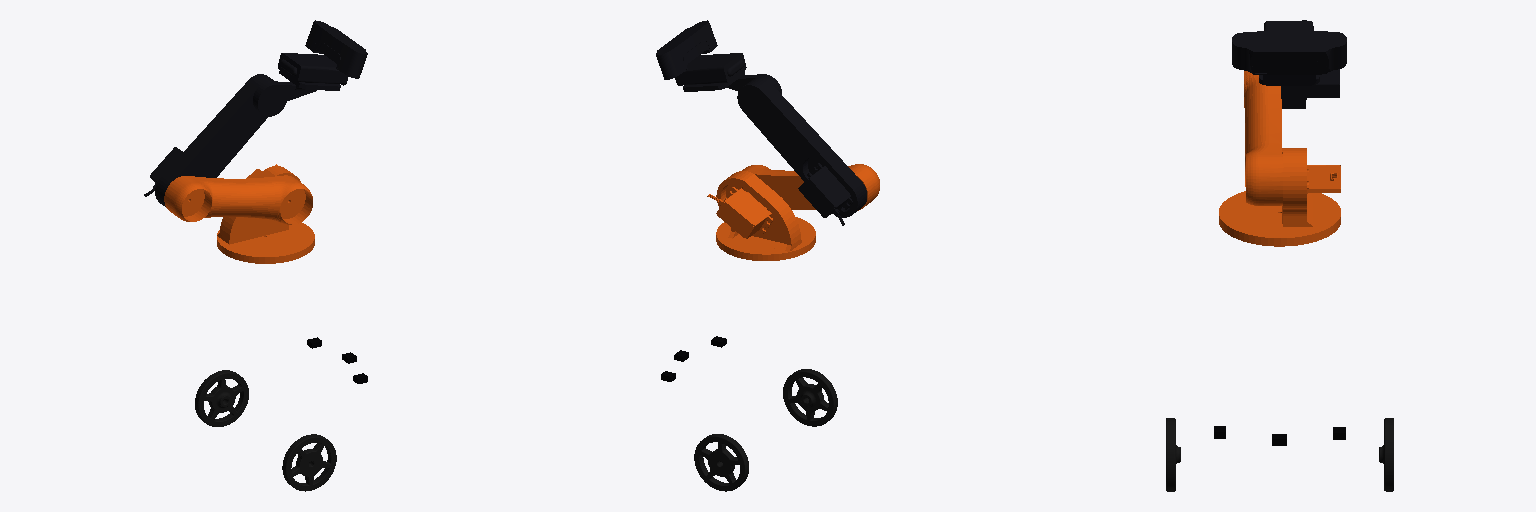
The robot description file, URDF, robot "assemblyscout":
<?xml version="1.0"?>
<robot name="assemblyscout">
  <!-- X hacia el frente, Y hacia la izquierda y Z hacia arriba. -->

  <!--
    Las mallas del chasis usan el marco del ensamble principal de CAD.
    Las tres mallas del brazo usan el marco del subensamble del brazo.
    Se conservan sus vértices originales y se transforman desde URDF.
  -->
  <link name="base_link">
    <inertial>
      <!-- Propiedades del chasis actualizado, transformadas de CAD a ROS. -->
      <origin xyz="-0.0050200 -0.0001100 0.0738800" rpy="0 0 0" />
      <mass value="2.9850300" />
      <inertia
        ixx="0.0200321246" ixy="0.0000278202" ixz="-0.0015139529"
        iyy="0.0203140360" iyz="-0.0000953432"
        izz="0.0092648964" />
    </inertial>

    <visual>
      <!-- CAD principal: X lateral, Y vertical y Z longitudinal. -->
      <origin xyz="0 0 0" rpy="1.57079632679 0 -1.57079632679" />
      <geometry>
        <mesh filename="package://robot_description/meshes/chasis.STL"
              scale="0.001 0.001 0.001" />
      </geometry>
      <material name="chassis_gray">
        <color rgba="0.65 0.65 0.68 1" />
      </material>
    </visual>

    <!-- Colisiones de la simulación móvil que ya eran estables. -->
    <collision name="body_collision">
      <origin xyz="0 0 0.080" rpy="0 0 0" />
      <geometry><box size="0.180 0.160 0.120" /></geometry>
    </collision>
    <!-- Los apoyos ya forman parte de la masa del chasis. -->
    <collision name="front_support_collision">
      <origin xyz="0.080 0 -0.0055625" rpy="0 0 0" />
      <geometry><sphere radius="0.0079375" /></geometry>
    </collision>
    <collision name="rear_support_collision">
      <origin xyz="-0.080 0 -0.0055625" rpy="0 0 0" />
      <geometry><sphere radius="0.0079375" /></geometry>
    </collision>
  </link>

  <!-- La C920 ya está representada dentro de la malla CAD del chasis. Este
       enlace sólo coloca su sensor virtual, sin una segunda carcasa delante. -->
  <link name="base_camera_link" />
  <joint name="base_camera_mount_joint" type="fixed">
    <parent link="base_link" />
    <child link="base_camera_link" />
    <!-- Centro óptico sobre la C920 modelada en el chasis, detrás del borde
         frontal que tapaba la vista anterior. -->
    <origin xyz="0.035 0 0.115" rpy="0 0 0" />
  </joint>
  <gazebo reference="base_camera_link">
    <sensor name="base_camera" type="camera">
      <always_on>true</always_on><visualize>true</visualize><update_rate>10</update_rate>
      <topic>/assemblyscout/base/camera/image</topic>
      <camera>
        <horizontal_fov>1.0471975512</horizontal_fov>
        <image><width>1280</width><height>720</height><format>R8G8B8</format></image>
        <clip><near>0.05</near><far>5.0</far></clip>
      </camera>
    </sensor>
  </gazebo>

  <link name="wheel_left_link">
    <inertial>
      <origin xyz="0.0000001 -0.0001772 0.0000031" rpy="0 0 0" />
      <mass value="0.0193581" />
      <inertia ixx="0.0000046755" ixy="0" ixz="0"
               iyy="0.0000091143" iyz="0" izz="0.0000046754" />
    </inertial>
    <visual>
      <origin xyz="0 0 0" rpy="3.14159265359 0 0" />
      <geometry>
        <mesh filename="package://robot_description/meshes/rueda_izquierda.STL"
              scale="0.001 0.001 0.001" />
      </geometry>
      <material name="wheel_dark"><color rgba="0.12 0.12 0.12 1" /></material>
    </visual>
    <collision>
      <origin xyz="0 0 0" rpy="1.57079632679 0 0" />
      <geometry><cylinder radius="0.030" length="0.006" /></geometry>
    </collision>
  </link>

  <joint name="wheel_left_joint" type="continuous">
    <parent link="base_link" /><child link="wheel_left_link" />
    <origin xyz="0 0.0890475 0.0165" rpy="0 0 0" />
    <axis xyz="0 1 0" />
    <limit effort="5.0" velocity="30.0" />
    <dynamics damping="0.05" friction="0.01" />
  </joint>

  <link name="wheel_right_link">
    <inertial>
      <origin xyz="0 0.0001772 0.0000031" rpy="0 0 0" />
      <mass value="0.0193581" />
      <inertia ixx="0.0000046755" ixy="0" ixz="0"
               iyy="0.0000091143" iyz="0" izz="0.0000046754" />
    </inertial>
    <visual>
      <origin xyz="0 0 0" rpy="0 0 0" />
      <geometry>
        <mesh filename="package://robot_description/meshes/rueda_derecha.STL"
              scale="0.001 0.001 0.001" />
      </geometry>
      <material name="wheel_dark" />
    </visual>
    <collision>
      <origin xyz="0 0 0" rpy="1.57079632679 0 0" />
      <geometry><cylinder radius="0.030" length="0.006" /></geometry>
    </collision>
  </link>

  <joint name="wheel_right_joint" type="continuous">
    <parent link="base_link" /><child link="wheel_right_link" />
    <origin xyz="0 -0.0890475 0.0165" rpy="0 0 0" />
    <axis xyz="0 1 0" />
    <limit effort="5.0" velocity="30.0" />
    <dynamics damping="0.05" friction="0.01" />
  </joint>

  <!-- Brazo dinámico: las masas e inercias conciliadas preservan la masa total
       del ensamble CAD hasta disponer de una descomposición definitiva. -->
  <link name="turret_link">
    <inertial>
      <origin xyz="0.0028664 0.0090140 0.0150813" rpy="0 0 0" />
      <mass value="0.16680893" />
      <inertia ixx="0.0001462859" ixy="-0.0000056788" ixz="-0.0000188260"
               iyy="0.0001576064" iyz="-0.0000262382" izz="0.0001609491" />
    </inertial>
    <visual>
      <!-- Marco de EnsambleBrazo a ROS, con origen en el eje de la torreta. -->
      <origin xyz="0 0 -0.0725000" rpy="1.57079632679 0 1.57079632679" />
      <geometry>
        <mesh filename="package://robot_description/meshes/torreta_brazo.STL"
              scale="0.001 0.001 0.001" />
      </geometry>
      <material name="arm_orange"><color rgba="0.85 0.38 0.10 1" /></material>
    </visual>
    <collision name="turret_collision">
      <origin xyz="0 0 0.0285" rpy="0 0 0" />
      <geometry><box size="0.100 0.100 0.075" /></geometry>
    </collision>
  </link>

  <joint name="turret_joint" type="revolute">
    <parent link="base_link" /><child link="turret_link" />
    <!-- Centro CAD (0, 234.5, 0) mm, llevado a ROS. -->
    <origin xyz="0 0 0.2345000" rpy="0 0 0" />
    <axis xyz="0 0 1" />
    <limit lower="-3.14159265359" upper="3.14159265359" effort="5.0" velocity="1.5" />
    <dynamics damping="0.5" friction="0.05" />
  </joint>

  <link name="upper_arm_link">
    <inertial>
      <origin xyz="-0.0576414 0.0025373 0.0143291" rpy="0 0 0" />
      <mass value="0.17608337" />
      <inertia ixx="0.0000496191" ixy="-0.0000040335" ixz="0.0000727948"
               iyy="0.0003532089" iyz="0.0000009735" izz="0.0003241583" />
    </inertial>
    <visual>
      <origin xyz="-0.0201424 0.0129816 -0.1125000"
              rpy="1.57079632679 0 1.57079632679" />
      <geometry>
        <mesh filename="package://robot_description/meshes/brazo.STL"
              scale="0.001 0.001 0.001" />
      </geometry>
      <material name="arm_orange" />
    </visual>
    <collision name="upper_arm_collision">
      <origin xyz="-0.0585 -0.0006 0.0139" rpy="0 0 0" />
      <geometry><box size="0.162 0.032 0.073" /></geometry>
    </collision>
  </link>

  <joint name="shoulder_joint" type="revolute">
    <parent link="turret_link" /><child link="upper_arm_link" />
    <!-- Centro del hombro medido en CAD y expresado desde la torreta. -->
    <origin xyz="0.0201424 -0.0129816 0.0400000" rpy="0 0 0" />
    <axis xyz="0 -1 0" />
    <limit lower="-3.14159265359" upper="3.14159265359" effort="5.0" velocity="1.5" />
    <dynamics damping="0.5" friction="0.05" />
  </joint>

  <link name="forearm_camera_link">
    <inertial>
      <origin xyz="0.1202176 0.0242732 0.1313684" rpy="0 0 0" />
      <mass value="0.38585149" />
      <inertia ixx="0.0007783379" ixy="0.0000957668" ixz="-0.0010346485"
               iyy="0.0024806109" iyz="0.0000599918" izz="0.0019526617" />
    </inertial>
    <visual>
      <!-- Incluye el soporte y la representación visual de la cámara Yuju. -->
      <origin xyz="0.0992800 0.0142800 -0.0901700"
              rpy="1.57079632679 0 1.57079632679" />
      <geometry>
        <mesh filename="package://robot_description/meshes/antebrazo_camara.STL"
              scale="0.001 0.001 0.001" />
      </geometry>
      <material name="camera_black"><color rgba="0.10 0.10 0.12 1" /></material>
    </visual>
    <collision name="forearm_collision">
      <origin xyz="0.0931 0.0220 0.1082" rpy="0 0 0" />
      <geometry><box size="0.224 0.095 0.153" /></geometry>
    </collision>
  </link>

  <joint name="elbow_joint" type="revolute">
    <parent link="upper_arm_link" /><child link="forearm_camera_link" />
    <!-- Eje aproximado con CAD; se refinará con la medición del segundo centro. -->
    <origin xyz="-0.1194224 -0.0012984 -0.0223300" rpy="0 0 0" />
    <axis xyz="0 -1 0" />
    <limit lower="-3.14159265359" upper="3.14159265359" effort="5.0" velocity="1.5" />
    <dynamics damping="0.5" friction="0.05" />
  </joint>

  <!-- Cámara virtual montada sobre el mismo conjunto visual de la Yuju.
       Su posición óptica se ajustará en simulación antes de usarla para
       inspección automática. -->
  <link name="inspection_camera_optical_link" />
  <joint name="inspection_camera_mount_joint" type="fixed">
    <parent link="forearm_camera_link" />
    <child link="inspection_camera_optical_link" />
    <origin xyz="0.1202176 0.0242732 0.1313684" rpy="0 0 0" />
  </joint>
  <gazebo reference="inspection_camera_optical_link">
    <sensor name="inspection_camera" type="camera">
      <always_on>true</always_on><visualize>true</visualize><update_rate>10</update_rate>
      <topic>/assemblyscout/arm/camera/image</topic>
      <camera>
        <horizontal_fov>1.0471975512</horizontal_fov>
        <image><width>1280</width><height>720</height><format>R8G8B8</format></image>
        <clip><near>0.05</near><far>2.0</far></clip>
      </camera>
    </sensor>
  </gazebo>


  <!-- VL53L1X central: centro CAD (0.55, 75.50, -98.20) mm convertido
       al marco ROS: (0.09820, -0.00055, 0.07550) m. Es un gpu_lidar de
       corto alcance que representa la distancia; no modela el firmware real. -->
  <link name="range_front_link">
    <visual><geometry><box size="0.010 0.012 0.006" /></geometry>
      <material name="sensor_black"><color rgba="0.04 0.04 0.05 1" /></material></visual>
  </link>
  <joint name="range_front_joint" type="fixed">
    <parent link="base_link" /><child link="range_front_link" />
    <origin xyz="0.09820 -0.00055 0.07550" rpy="0 0 0" />
  </joint>

  <gazebo reference="range_front_link">
    <sensor name="range_front" type="gpu_lidar">
      <always_on>true</always_on><visualize>true</visualize><update_rate>10</update_rate>
      <topic>/assemblyscout/range/front/scan</topic><gz_frame_id>range_front_link</gz_frame_id>
      <lidar><scan><horizontal><samples>9</samples><resolution>1</resolution>
        <min_angle>-0.23562</min_angle><max_angle>0.23562</max_angle></horizontal>
        <vertical><samples>1</samples><resolution>1</resolution><min_angle>0</min_angle><max_angle>0</max_angle></vertical>
      </scan><range><min>0.04</min><max>4.0</max><resolution>0.01</resolution></range>
      <noise><type>gaussian</type><mean>0.0</mean><stddev>0.005</stddev></noise></lidar>
    </sensor>
  </gazebo>


  <!-- Los nombres izquierda/derecha siguen el punto de vista propio del robot.
       En el marco ROS, +X es frente y +Y es izquierda: los sensores laterales
       miran perpendicularmente al avance, no en diagonal hacia delante. -->
  <link name="range_right_link">
    <visual><geometry><box size="0.010 0.012 0.006" /></geometry>
      <material name="sensor_black" /></visual>
  </link>
  <joint name="range_right_joint" type="fixed">
    <parent link="base_link" /><child link="range_right_link" />
    <origin xyz="0.083110 -0.049045 0.075230" rpy="0 0 -1.57079632679" />
  </joint>
  <gazebo reference="range_right_link">
    <sensor name="range_right" type="gpu_lidar">
      <always_on>true</always_on><visualize>true</visualize><update_rate>10</update_rate>
      <topic>/assemblyscout/range/right/scan</topic><gz_frame_id>range_right_link</gz_frame_id>
      <lidar><scan><horizontal><samples>9</samples><resolution>1</resolution>
        <min_angle>-0.23562</min_angle><max_angle>0.23562</max_angle></horizontal>
        <vertical><samples>1</samples><resolution>1</resolution><min_angle>0</min_angle><max_angle>0</max_angle></vertical>
      </scan><range><min>0.04</min><max>4.0</max><resolution>0.01</resolution></range>
      <noise><type>gaussian</type><mean>0.0</mean><stddev>0.005</stddev></noise></lidar>
    </sensor>
  </gazebo>

  <link name="range_left_link">
    <visual><geometry><box size="0.010 0.012 0.006" /></geometry>
      <material name="sensor_black" /></visual>
  </link>
  <joint name="range_left_joint" type="fixed">
    <parent link="base_link" /><child link="range_left_link" />
    <origin xyz="0.085390 0.048500 0.075500" rpy="0 0 1.57079632679" />
  </joint>
  <gazebo reference="range_left_link">
    <sensor name="range_left" type="gpu_lidar">
      <always_on>true</always_on><visualize>true</visualize><update_rate>10</update_rate>
      <topic>/assemblyscout/range/left/scan</topic><gz_frame_id>range_left_link</gz_frame_id>
      <lidar><scan><horizontal><samples>9</samples><resolution>1</resolution>
        <min_angle>-0.23562</min_angle><max_angle>0.23562</max_angle></horizontal>
        <vertical><samples>1</samples><resolution>1</resolution><min_angle>0</min_angle><max_angle>0</max_angle></vertical>
      </scan><range><min>0.04</min><max>4.0</max><resolution>0.01</resolution></range>
      <noise><type>gaussian</type><mean>0.0</mean><stddev>0.005</stddev></noise></lidar>
    </sensor>
  </gazebo>

  <gazebo reference="base_link"><mu1>0.05</mu1><mu2>0.05</mu2></gazebo>
  <gazebo reference="wheel_left_link"><mu1>1.0</mu1><mu2>1.0</mu2></gazebo>
  <gazebo reference="wheel_right_link"><mu1>1.0</mu1><mu2>1.0</mu2></gazebo>

  <gazebo>
    <plugin filename="gz-sim-diff-drive-system" name="gz::sim::systems::DiffDrive">
      <left_joint>wheel_left_joint</left_joint>
      <right_joint>wheel_right_joint</right_joint>
      <wheel_separation>0.178095</wheel_separation>
      <wheel_radius>0.030</wheel_radius>
      <odom_publish_frequency>30</odom_publish_frequency>
      <!-- Tópico exclusivo del robot: evita recibir órdenes de procesos ROS
           anteriores que pudieran seguir publicando en /cmd_vel. -->
      <topic>/assemblyscout/cmd_vel</topic><odom_topic>/odom</odom_topic><tf_topic>/tf</tf_topic>
      <frame_id>odom</frame_id><child_frame_id>base_link</child_frame_id>
      <max_linear_velocity>0.60</max_linear_velocity>
      <max_angular_velocity>3.00</max_angular_velocity>
      <max_linear_acceleration>1.00</max_linear_acceleration>
      <max_angular_acceleration>4.00</max_angular_acceleration>
    </plugin>

    <plugin filename="gz-sim-joint-state-publisher-system" name="gz::sim::systems::JointStatePublisher">
      <topic>/joint_states</topic>
      <joint_name>wheel_left_joint</joint_name><joint_name>wheel_right_joint</joint_name>
      <joint_name>turret_joint</joint_name><joint_name>shoulder_joint</joint_name>
      <joint_name>elbow_joint</joint_name>
    </plugin>
    <!-- Mantienen la postura CAD mientras las articulaciones siguen siendo
         revolutas y pueden recibir referencias explícitas después. -->
    <plugin filename="gz-sim-joint-position-controller-system" name="gz::sim::systems::JointPositionController">
      <joint_name>turret_joint</joint_name><topic>/assemblyscout/arm/turret_position</topic>
      <p_gain>25</p_gain><d_gain>3</d_gain><cmd_max>0.8</cmd_max><cmd_min>-0.8</cmd_min>
    </plugin>
    <plugin filename="gz-sim-joint-position-controller-system" name="gz::sim::systems::JointPositionController">
      <joint_name>shoulder_joint</joint_name><topic>/assemblyscout/arm/shoulder_position</topic>
      <p_gain>25</p_gain><d_gain>3</d_gain><cmd_max>0.8</cmd_max><cmd_min>-0.8</cmd_min>
    </plugin>
    <plugin filename="gz-sim-joint-position-controller-system" name="gz::sim::systems::JointPositionController">
      <joint_name>elbow_joint</joint_name><topic>/assemblyscout/arm/elbow_position</topic>
      <!-- Más par solo en el codo: conserva la respuesta dinámica del brazo
           durante el frenado de la base, pero vence su propia inercia. -->
      <p_gain>40</p_gain><d_gain>5</d_gain><cmd_max>2.0</cmd_max><cmd_min>-2.0</cmd_min>
    </plugin>
  </gazebo>
</robot>

--- Render facts (derived) ---
The picture shows the robot from 3 angles, left to right: view 1: azimuth 30°, elevation 25°; view 2: azimuth 150°, elevation 25°; view 3: azimuth 270°, elevation 25°; orthographic projection.
Robot: assemblyscout — 11 links, 10 joints (3 revolute, 2 continuous, 5 fixed); root link base_link; default pose: every joint at zero.
Links seen in each view (by area): view 1: forearm_camera_link, upper_arm_link, turret_link, wheel_right_link, wheel_left_link; view 2: forearm_camera_link, turret_link, wheel_left_link, wheel_right_link, upper_arm_link; view 3: turret_link, forearm_camera_link, upper_arm_link, wheel_right_link, wheel_left_link.
Boxes of the visible links, x1=… form: forearm_camera_link: x1=144, y1=20, x2=367, y2=206; upper_arm_link: x1=164, y1=175, x2=312, y2=224; turret_link: x1=217, y1=164, x2=314, y2=263; wheel_right_link: x1=282, y1=434, x2=336, y2=491; wheel_left_link: x1=195, y1=370, x2=248, y2=426; forearm_camera_link: x1=656, y1=20, x2=866, y2=225; turret_link: x1=707, y1=171, x2=815, y2=260; wheel_left_link: x1=694, y1=434, x2=748, y2=491; wheel_right_link: x1=783, y1=369, x2=837, y2=426; upper_arm_link: x1=742, y1=164, x2=879, y2=210; turret_link: x1=1219, y1=148, x2=1340, y2=246; forearm_camera_link: x1=1232, y1=20, x2=1346, y2=108; upper_arm_link: x1=1244, y1=71, x2=1282, y2=205; wheel_right_link: x1=1166, y1=418, x2=1180, y2=491; wheel_left_link: x1=1379, y1=418, x2=1393, y2=491.
Bounding box of the posed robot: 0.2246 × 0.1861 × 0.4504 m (x, y, z).
Meshes: 6 distinct files referenced, 5 mesh visuals loaded (5 binary STL); not drawn: 1 (reference not matched to a file when rendering).
